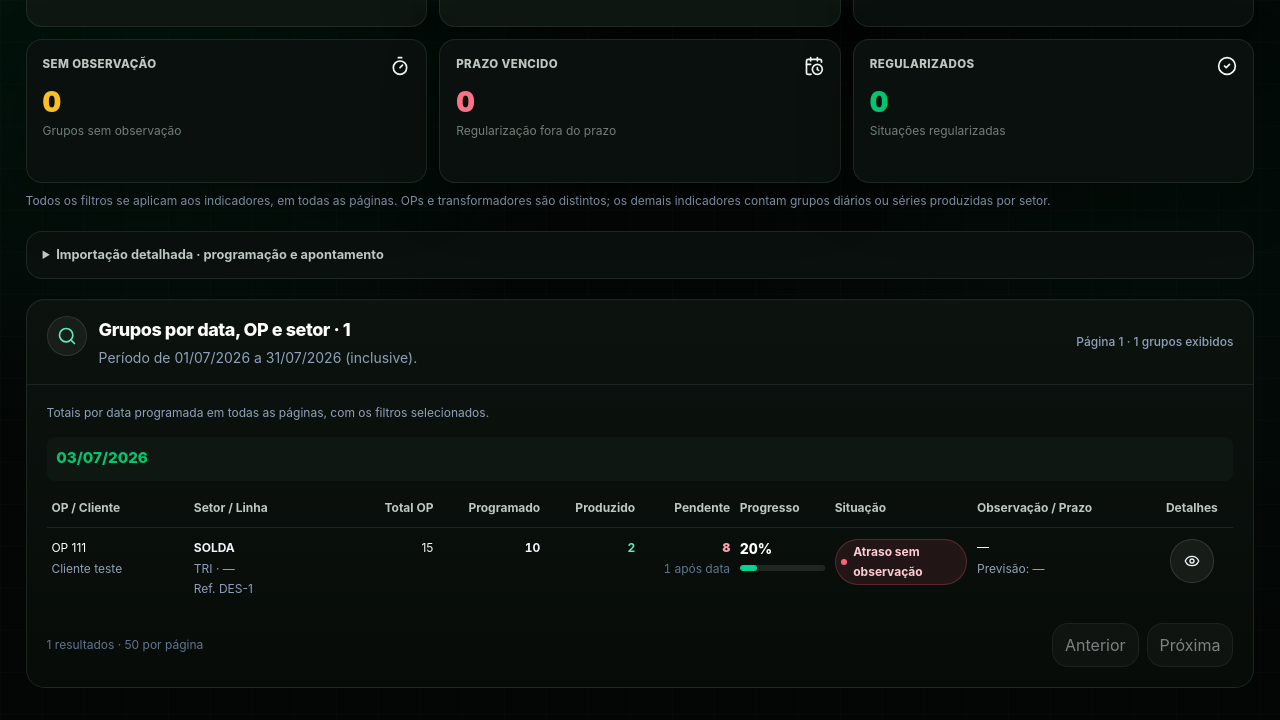
Visão OP — concorrência e contexto › apresenta falha local do modal e permite tentar novamente
This screenshot has width=1280, height=720.
(page scrolled)
Click the button "OP 111" at (69, 548), box [51,539,86,557]
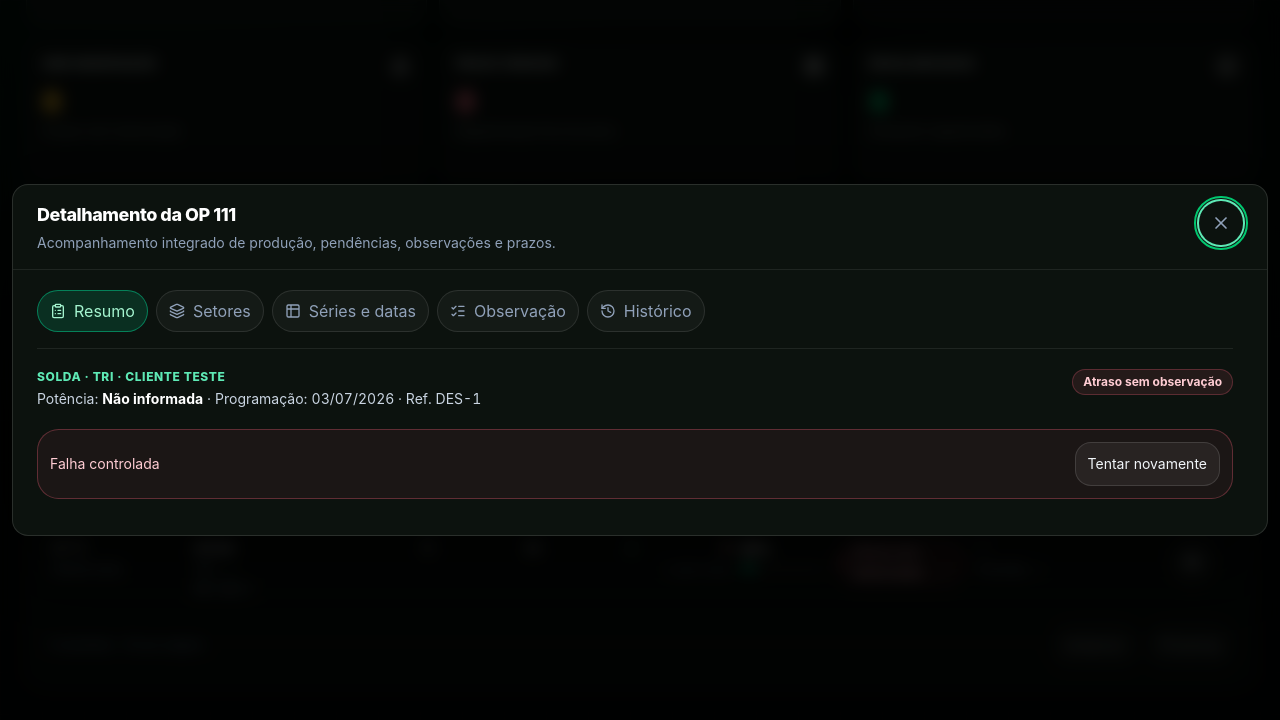
Expected: the message shows "Falha controlada", [50,455,160,472]
Expected: the button "Tentar novamente" is enabled, [1074,442,1220,486]
Click the button "Observação" at (508, 311), box [437,290,579,332]
(page scrolled)
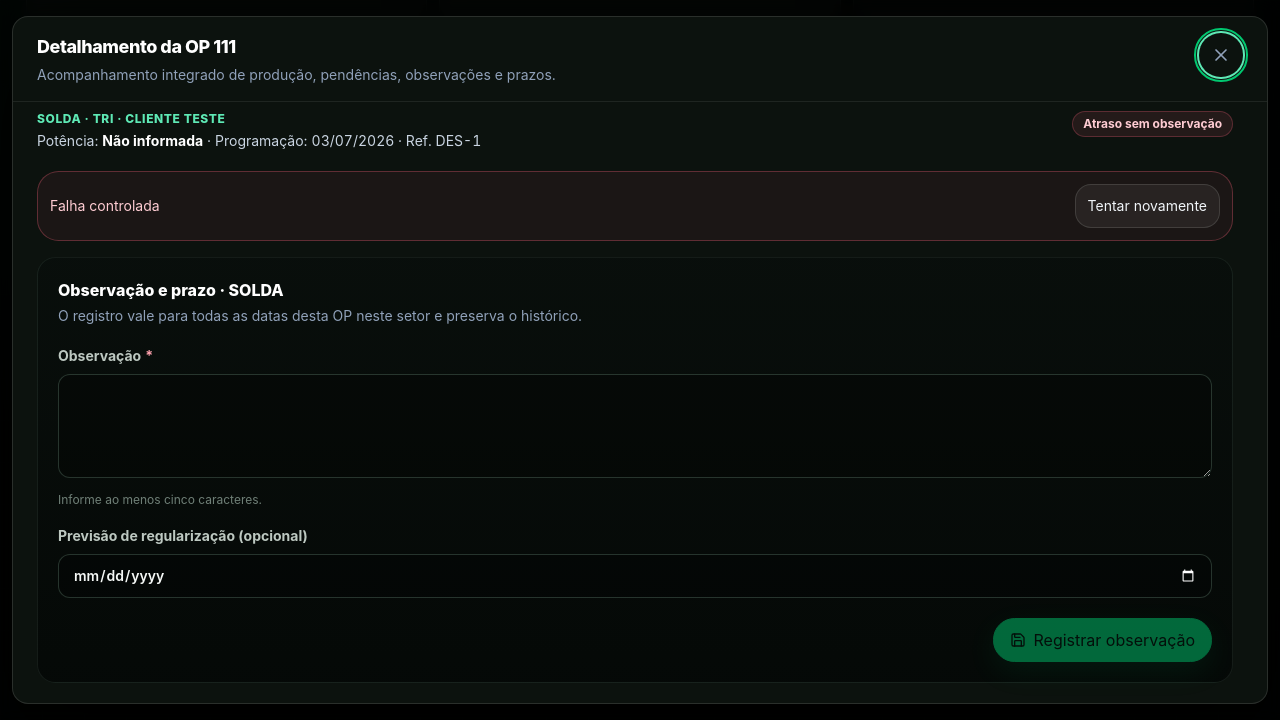
Expected: the button "Registrar observação" is disabled, [992,618,1212,662]
